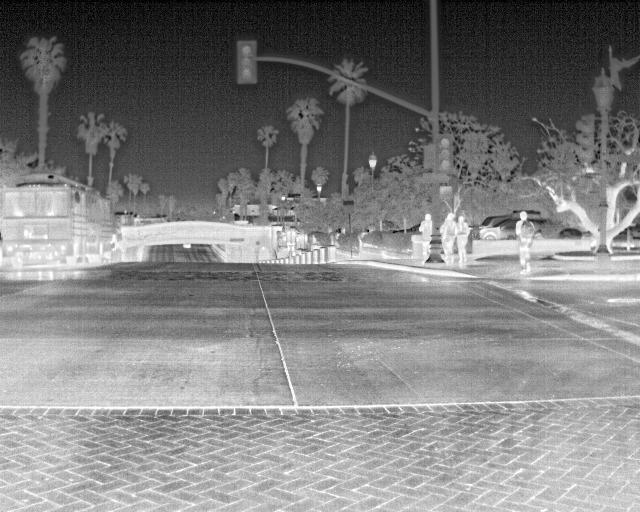bicycle: (476, 220, 515, 240), (528, 219, 550, 238)
empty: (515, 209, 537, 276), (442, 210, 459, 270), (456, 212, 473, 270), (418, 211, 435, 264)
